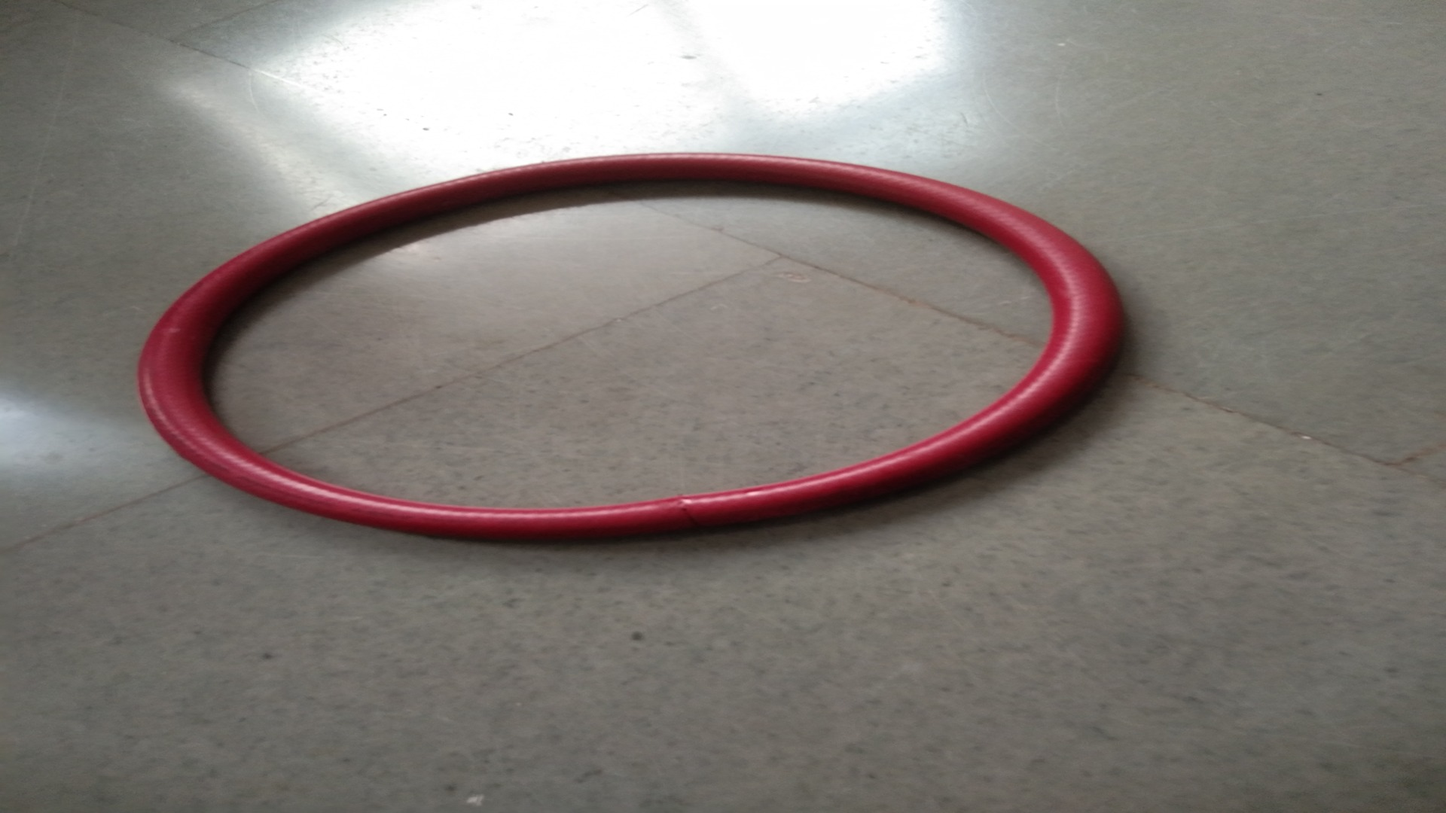Red ring: (138, 154, 1128, 541)
